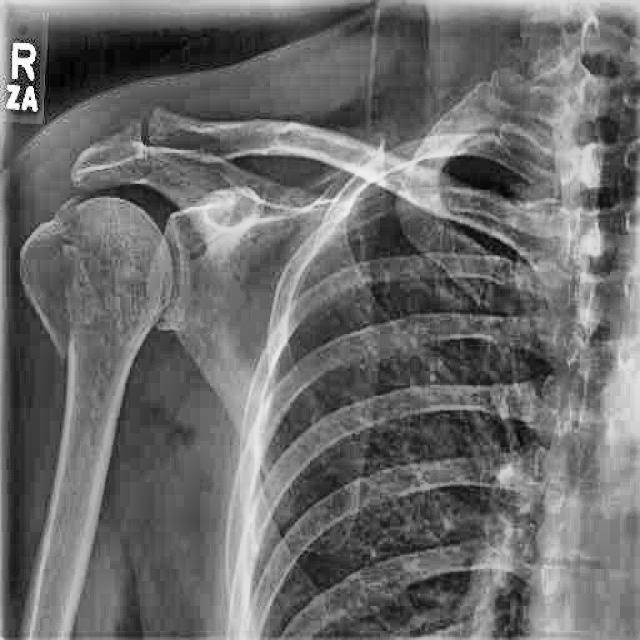shoulder fracture: (2, 209, 118, 382), (110, 102, 186, 178)
